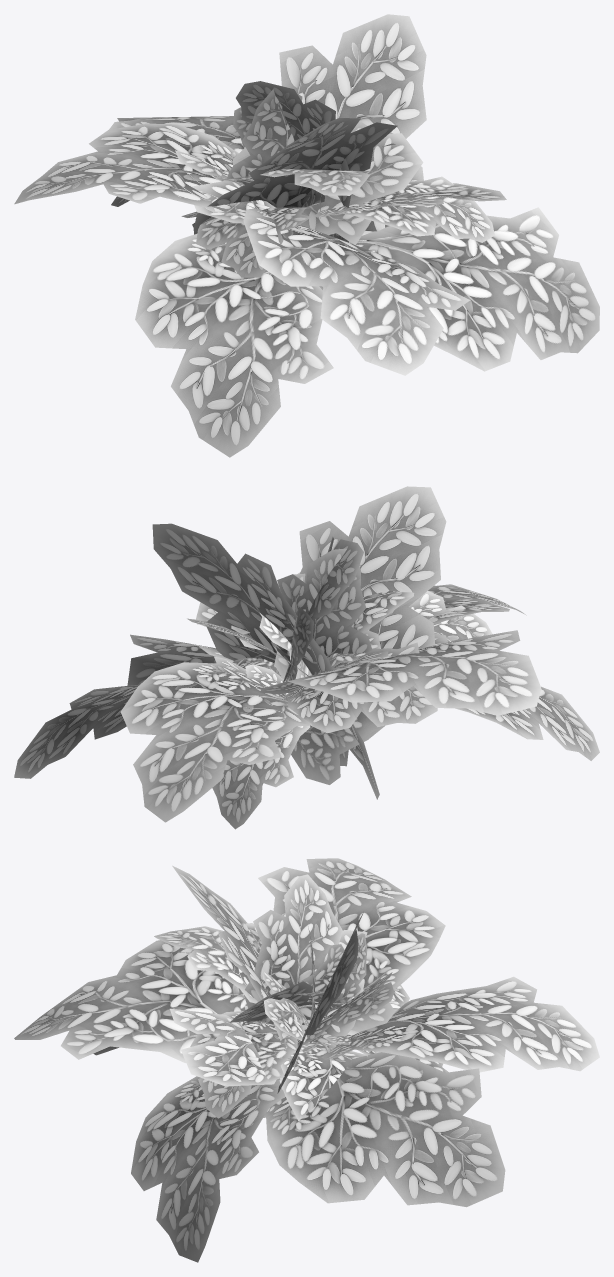
Rendered from Bush.FBX.
3 renders of one model, top to bottom at view 1: azimuth 30°, elevation 25°; view 2: azimuth 150°, elevation 25°; view 3: azimuth 270°, elevation 25°, orthographic. The views are drawn at different scales.
Parts seen in each view (by area): view 1: Box121; view 2: Box121; view 3: Box121.
Part boxes in pixels (x1=…): Box121: x1=14, y1=14, x2=599, y2=457; Box121: x1=14, y1=486, x2=599, y2=829; Box121: x1=14, y1=858, x2=599, y2=1262.
Size of the model in its own units: 194 by 109 by 211.
1 material, 1 textured.
